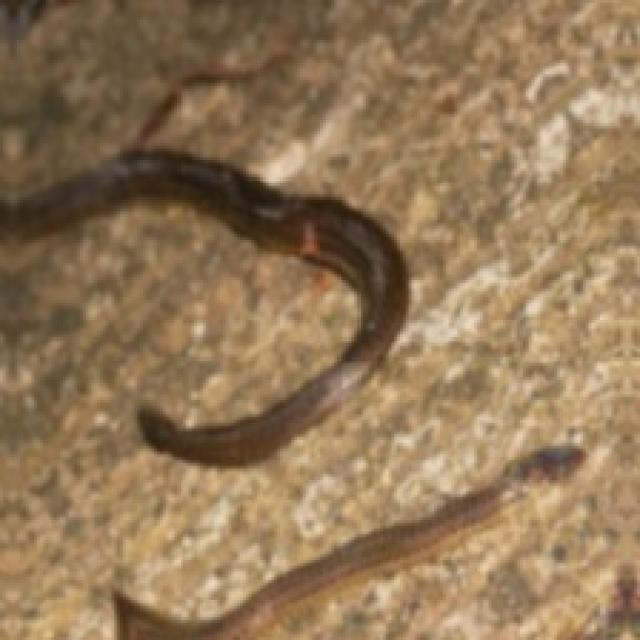gervais worm snake: (0, 149, 406, 463), (114, 446, 583, 637)
